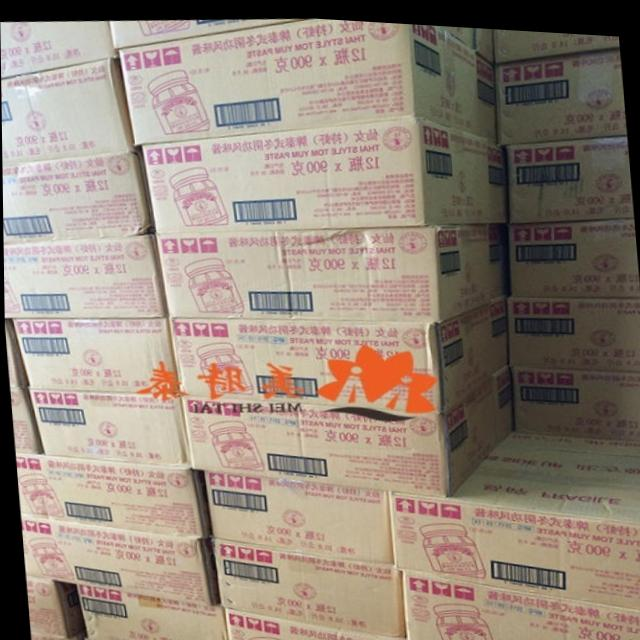box: (121, 14, 479, 144), (389, 425, 640, 603), (176, 362, 511, 492), (141, 114, 489, 232), (169, 289, 509, 407), (155, 218, 492, 317), (207, 535, 403, 639), (401, 566, 640, 640), (19, 517, 216, 604), (203, 468, 389, 560), (14, 451, 206, 535), (1, 55, 135, 165), (2, 149, 152, 245), (3, 231, 166, 318), (493, 42, 626, 140), (9, 317, 176, 389), (25, 390, 187, 464), (507, 127, 633, 215), (505, 288, 640, 365), (508, 211, 640, 289), (509, 362, 640, 433), (77, 584, 226, 640), (110, 14, 307, 50), (0, 19, 116, 77), (223, 606, 404, 640), (493, 23, 619, 57), (24, 575, 81, 639), (8, 384, 41, 453), (477, 45, 496, 139), (487, 213, 509, 294), (489, 134, 507, 218), (4, 321, 25, 388), (473, 22, 492, 59), (438, 20, 473, 38), (28, 631, 80, 640)
